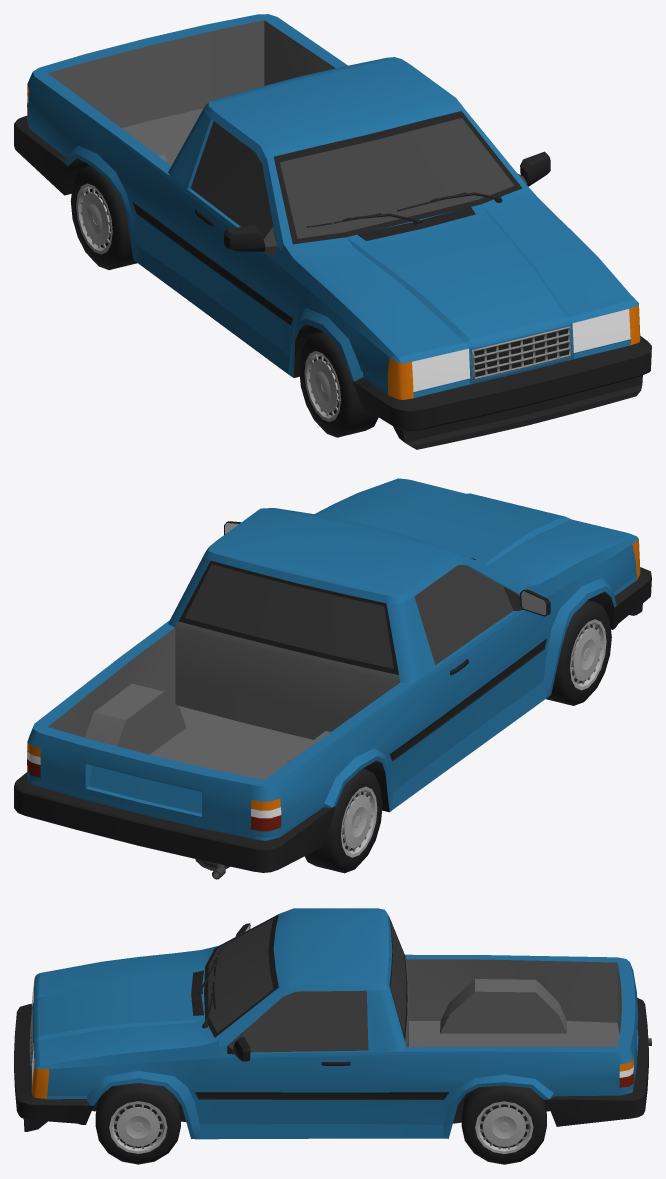
File: car1.fbx
3 renders of one model, top to bottom at view 1: azimuth 30°, elevation 25°; view 2: azimuth 150°, elevation 25°; view 3: azimuth 270°, elevation 25°, orthographic. The views are drawn at different scales.
Parts seen in each view (by area): view 1: car1; view 2: car1; view 3: car1.
Boxes of the visible parts, left/top/right/bottom form: car1: left=14, top=14, right=651, bottom=449; car1: left=14, top=478, right=651, bottom=879; car1: left=14, top=908, right=651, bottom=1164.
Bounding box in the file's own units: 213 × 134 × 454.
1 material, 1 textured.
